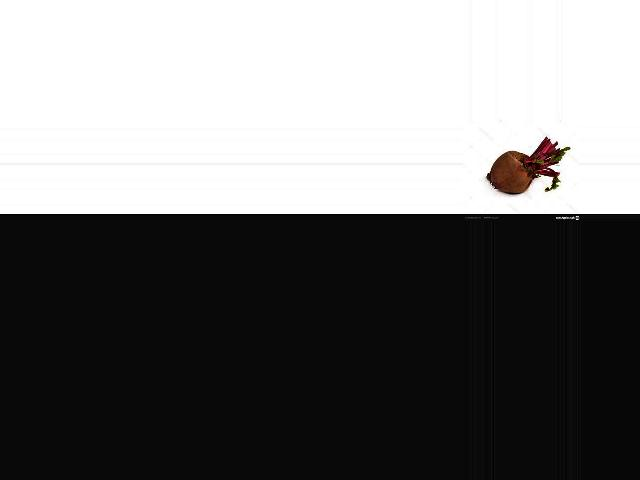beet: (486, 137, 569, 194)
